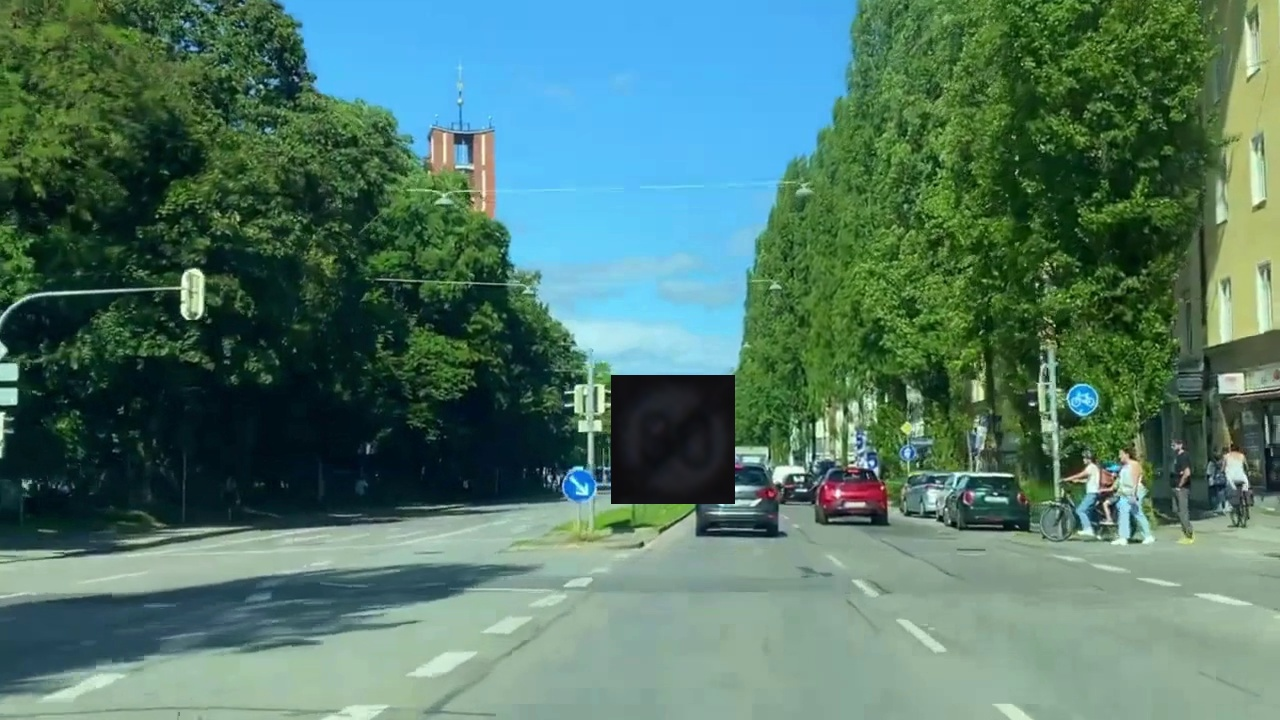End Speed 80: (611, 375, 735, 504)
